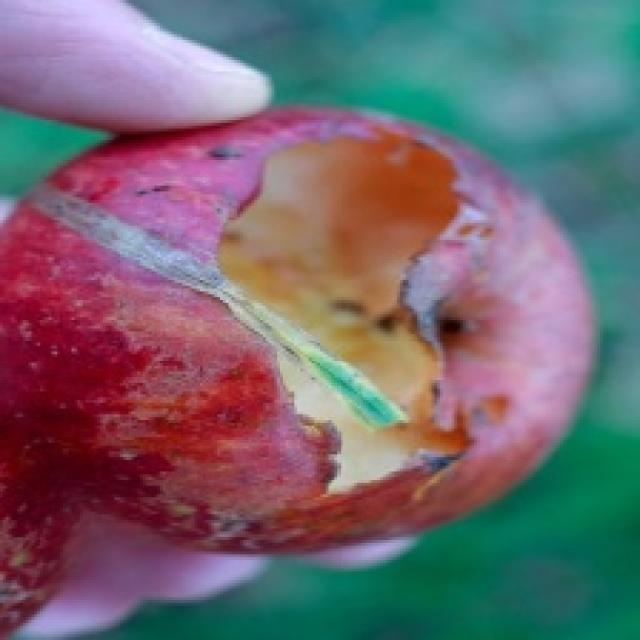rotten_apple: (0, 113, 601, 542)
